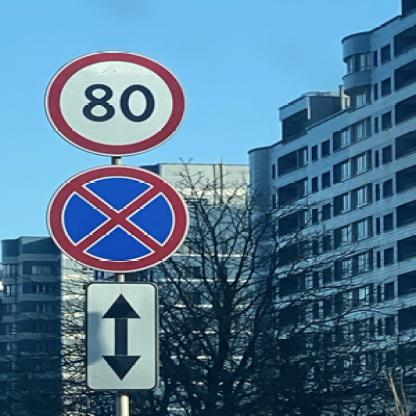speedlimit: (40, 51, 184, 156)
